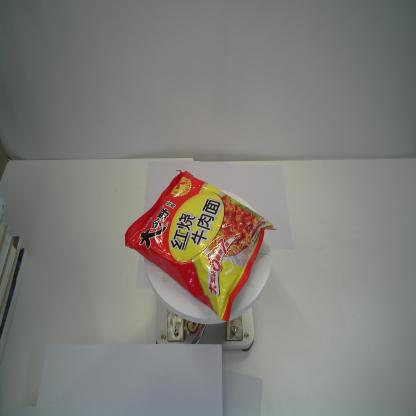Instant Noodles: (123, 168, 278, 322)
